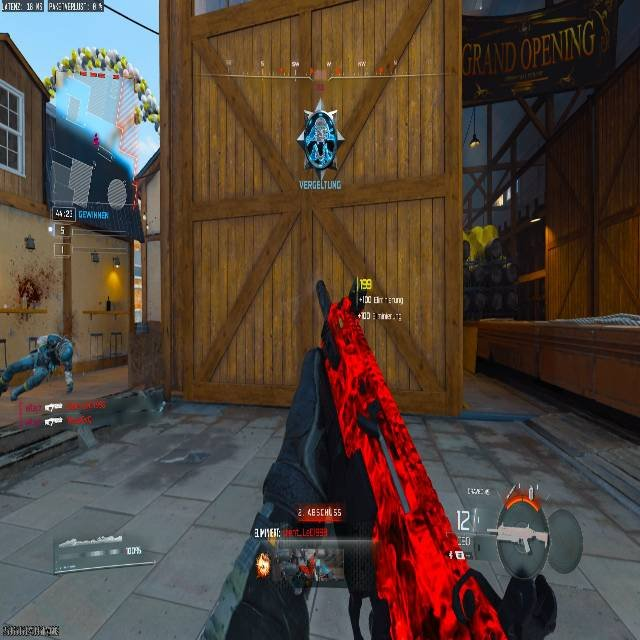head: (41, 332, 68, 352)
player: (1, 330, 76, 404), (301, 102, 342, 178), (47, 333, 77, 401)
